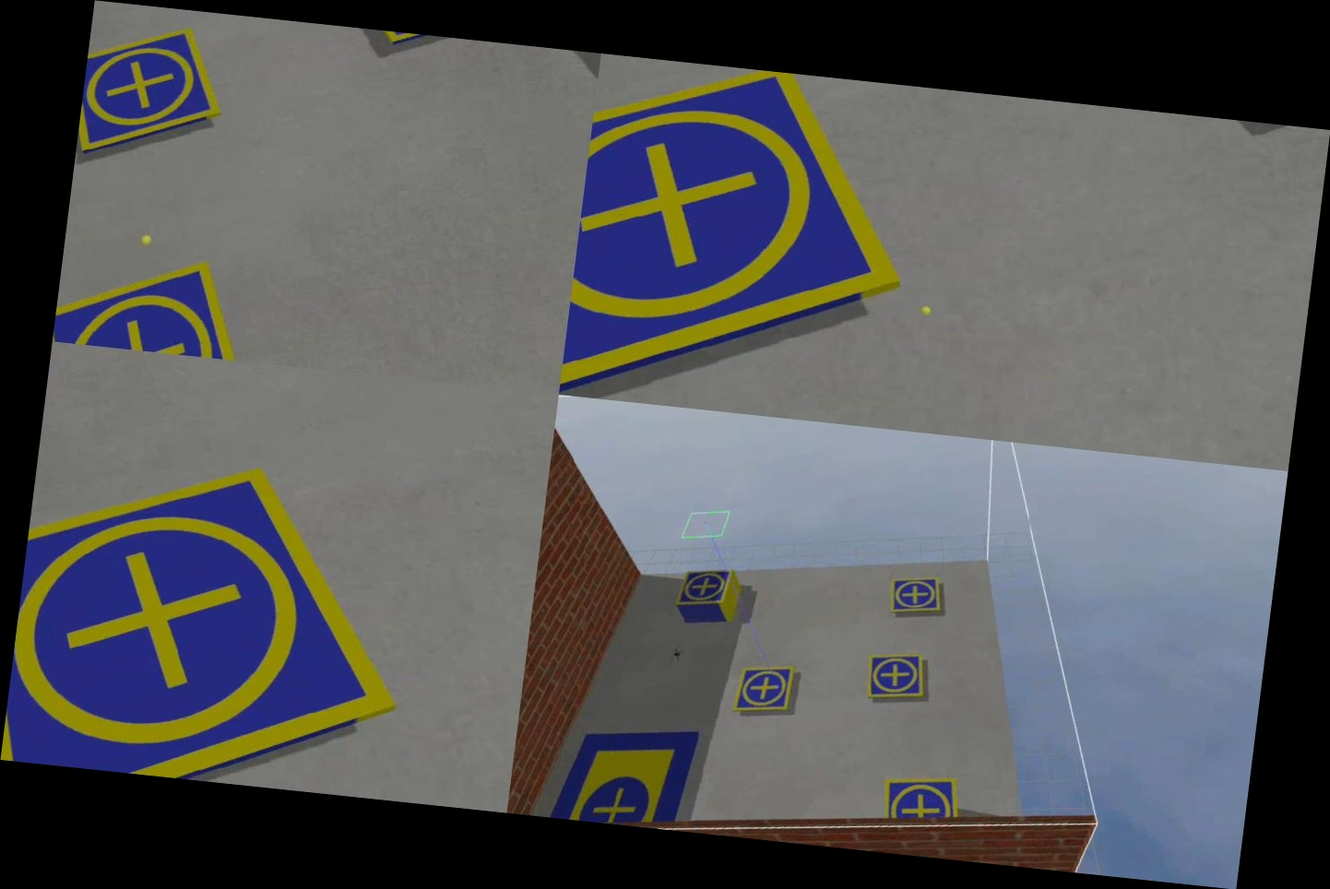large_base: (528, 705, 720, 833)
small_base: (0, 419, 455, 802), (559, 53, 947, 431), (53, 241, 283, 364), (76, 13, 238, 169), (873, 763, 967, 836), (722, 656, 805, 724), (857, 642, 935, 709), (670, 560, 742, 618), (878, 567, 951, 624)
